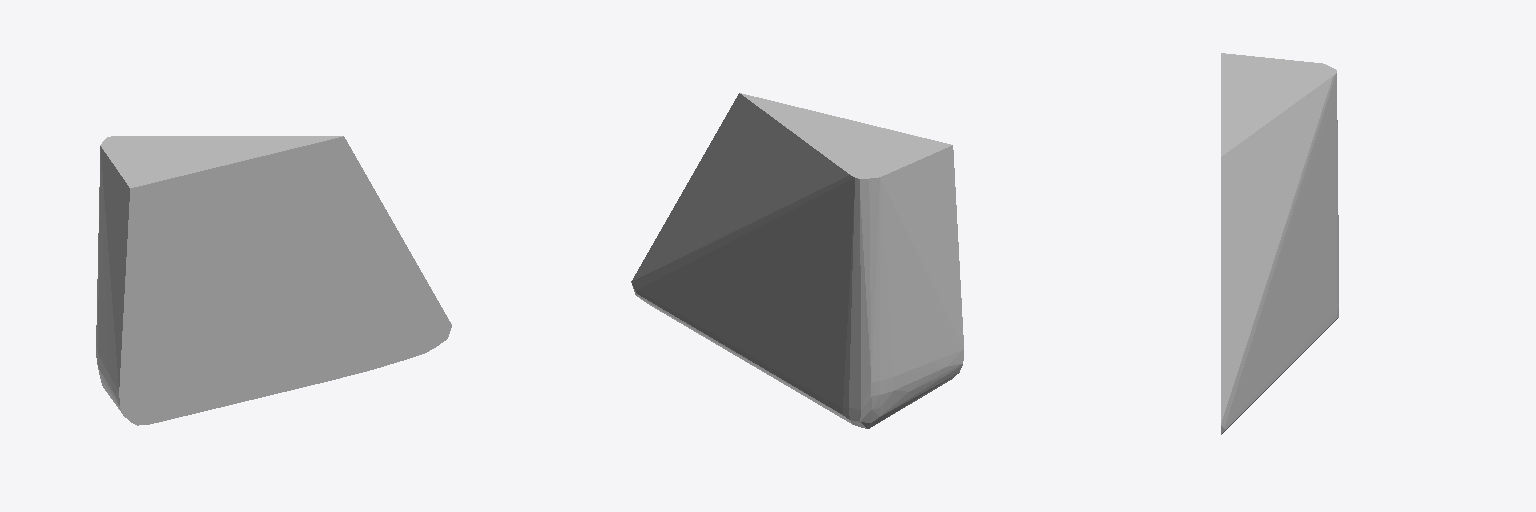
Rendered from box_long_brown_M_collision_3.obj.
3 views of the same model, side by side, from view 1: azimuth 30°, elevation 25°; view 2: azimuth 150°, elevation 25°; view 3: azimuth 270°, elevation 25° (orthographic).
Bounding box in the file's own units: 0.0314 × 0.0229 × 0.0097.